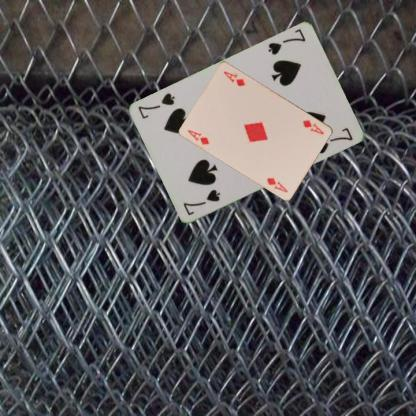7s: (266, 26, 308, 57), (180, 187, 222, 217)
Ad: (300, 116, 326, 135), (185, 127, 210, 146)
